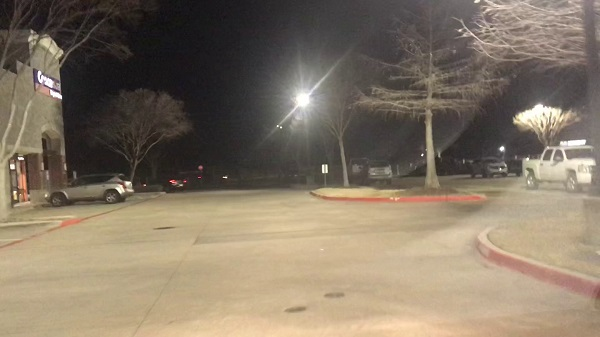car: (45, 173, 133, 207), (467, 155, 508, 178), (360, 158, 395, 183), (166, 171, 186, 193)
truck: (522, 145, 595, 192)
